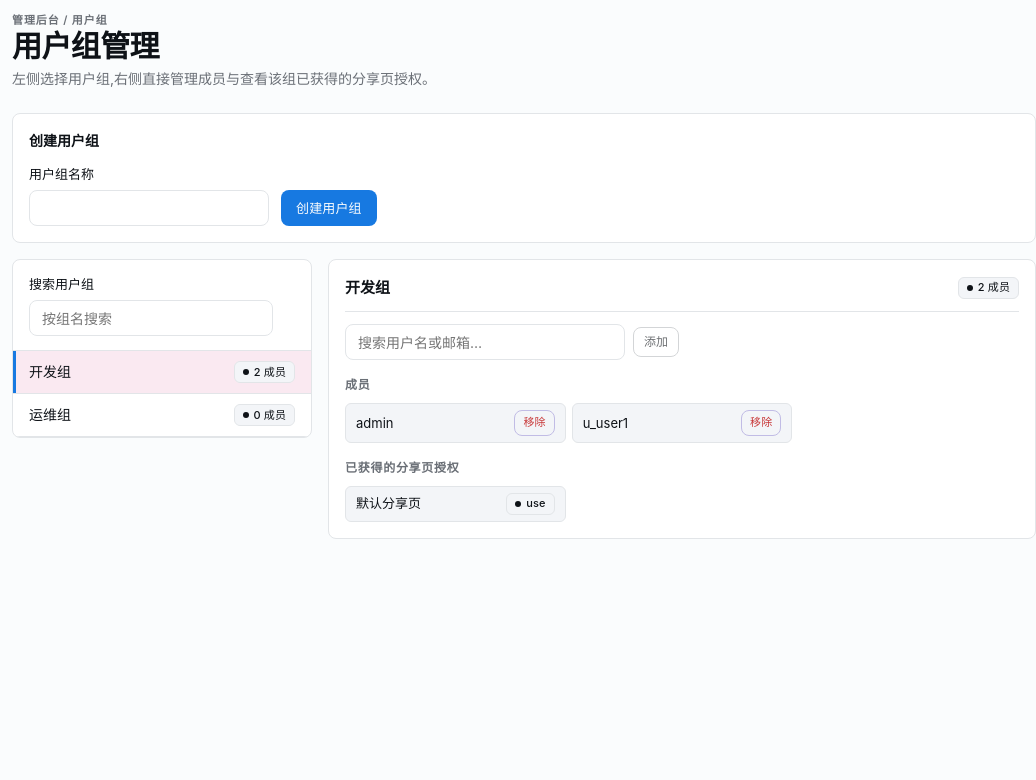
Test: GroupsAdminPage (Issue 89 master-detail) › 添加成员 — combobox 多选 + chips,一次可添加多人(Issue 88/89)
Expected: the button with test id "group-row-g_dev" is shown, [13,351,311,394]
Expected: the element with test id "group-detail" is shown, [328,259,1035,538]
Click the button with test id "group-row-g_ops": x=50, y=415 [13,394,311,437]
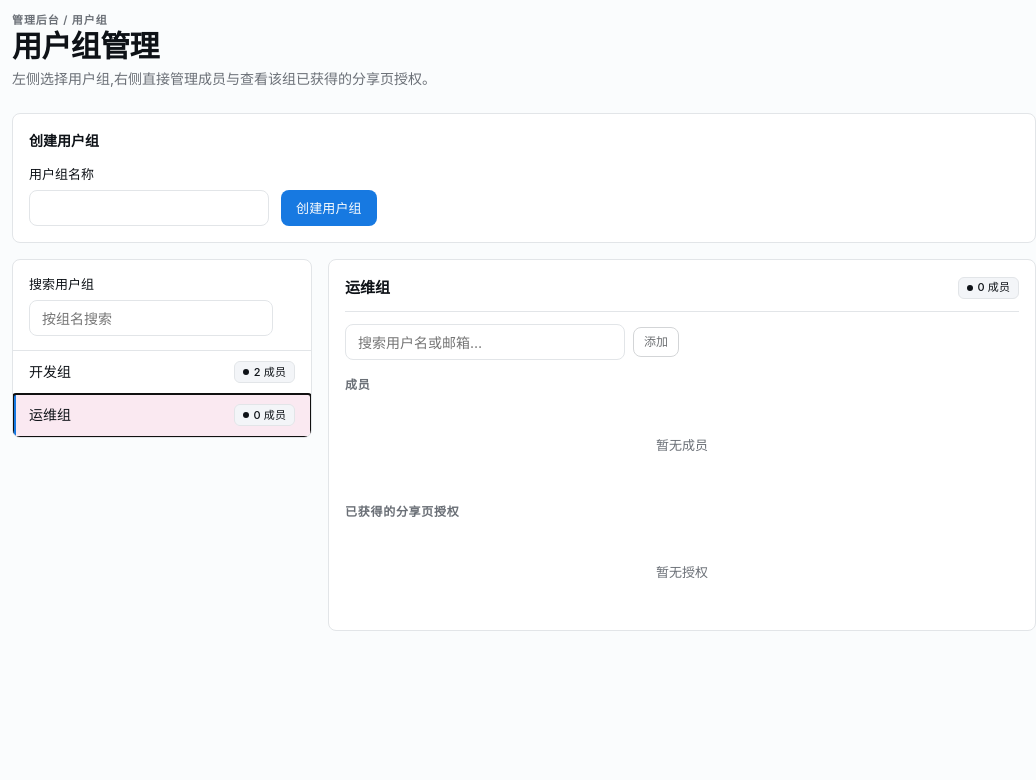
In the dropdown named "选择用户": x=485, y=342 [345,324,625,360], type "user2@"
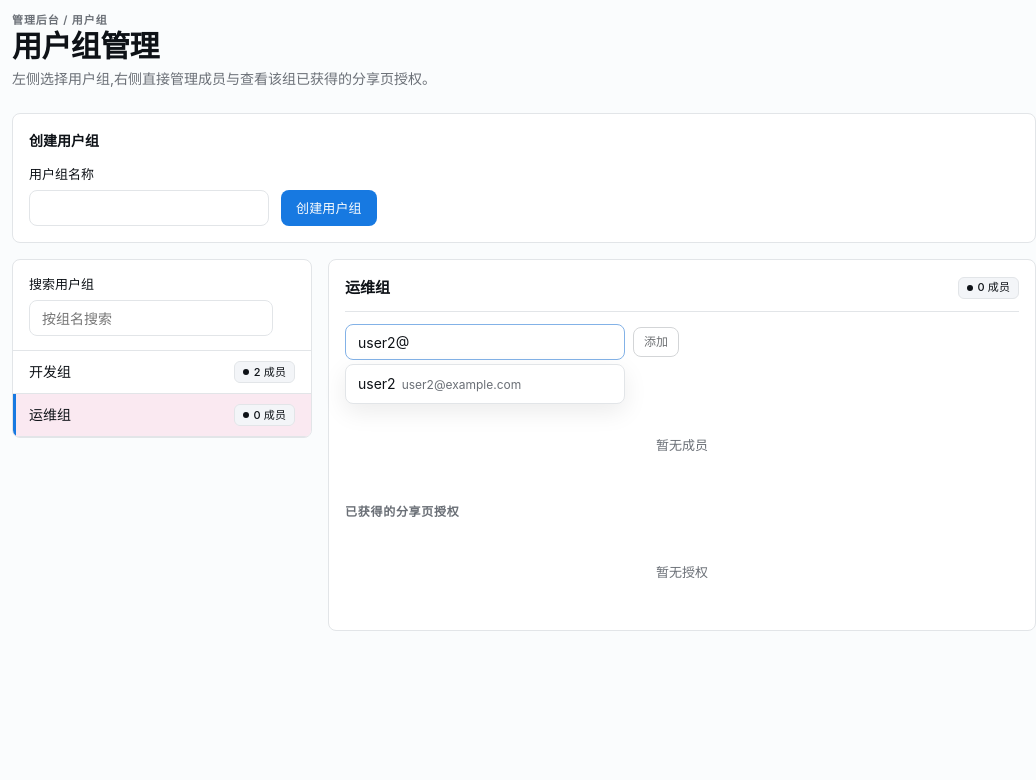
Click the option "user2 user2@example.com": x=440, y=384 [358,375,521,392]
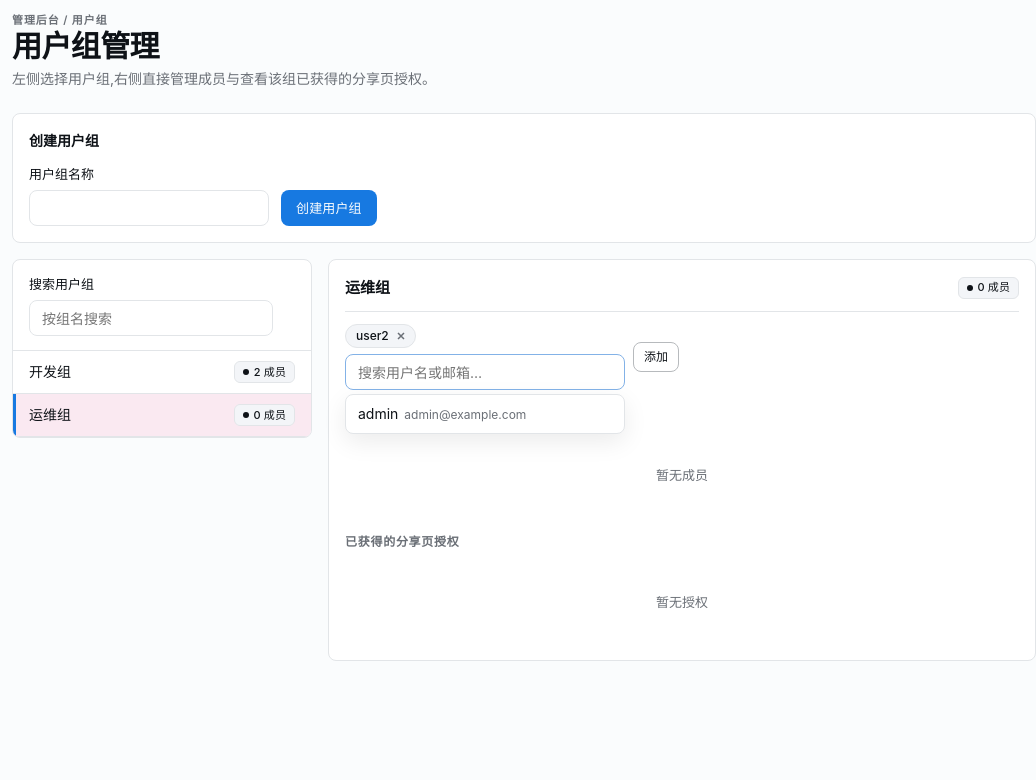
Now the list named "已选项" reads "user2", box [356,328,389,343]
Click the button "添加": x=656, y=357 [633,342,679,372]
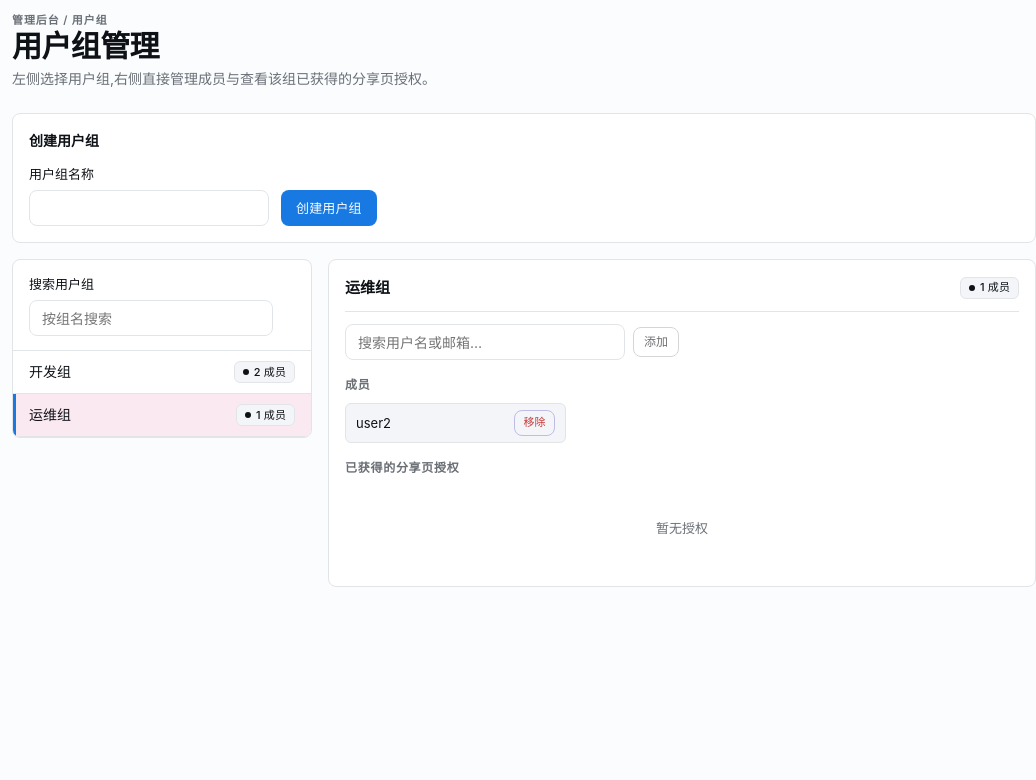
Now the text "user2" is shown, box [356,413,391,433]
Now the 1st text "1 成员" is shown, box [960,277,1019,299]
Now the list "已选项" is gone
